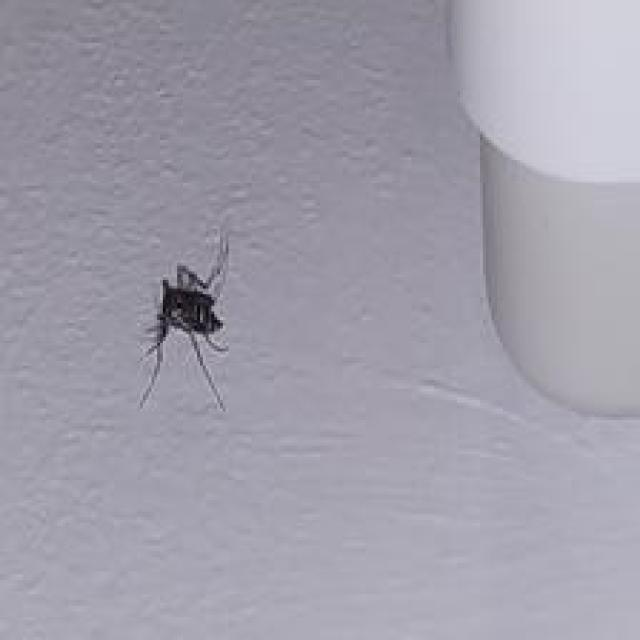Aedes albopictus: (136, 233, 233, 413)
